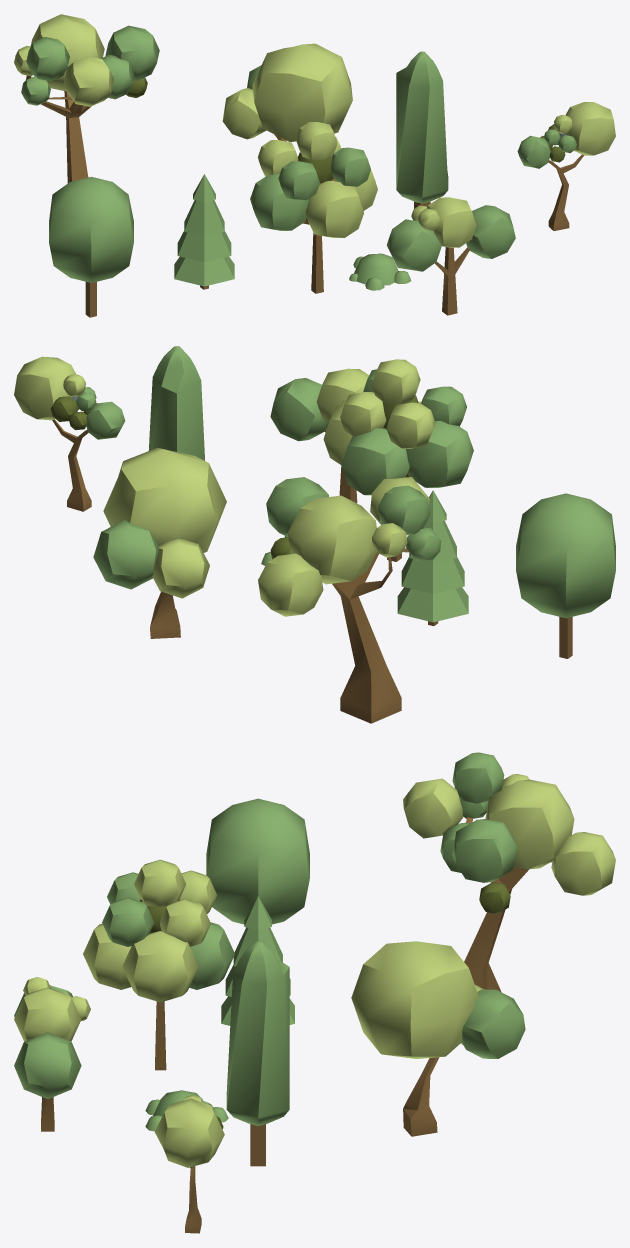
3 renders of one model, top to bottom at view 1: azimuth 30°, elevation 25°; view 2: azimuth 150°, elevation 25°; view 3: azimuth 270°, elevation 25°, orthographic. The views are drawn at different scales.
Parts seen in each view (by area): view 1: TreeG, TreeB, TreeC, Tree_E, TreeF, Tree_H, TreeA, TreeD, Bushes; view 2: TreeB, TreeC, TreeG, Tree_E, TreeA, TreeD, Tree_H, TreeF; view 3: TreeB, TreeC, TreeG, Tree_H, Tree_E, TreeF, TreeA, TreeD, Bushes.
Part boxes in pixels (x1,y1,x2,y2): TreeG: [250, 122, 377, 293]; TreeB: [14, 14, 159, 183]; TreeC: [222, 43, 352, 141]; Tree_E: [49, 177, 133, 317]; TreeF: [387, 197, 515, 315]; Tree_H: [396, 51, 448, 208]; TreeA: [517, 102, 615, 230]; TreeD: [174, 174, 234, 289]; Bushes: [349, 253, 410, 290]; TreeB: [258, 477, 441, 723]; TreeC: [93, 447, 226, 638]; TreeG: [323, 359, 473, 561]; Tree_E: [516, 493, 615, 658]; TreeA: [14, 356, 125, 511]; TreeD: [397, 490, 468, 625]; Tree_H: [148, 346, 204, 460]; TreeF: [270, 368, 368, 503]; TreeB: [403, 752, 615, 992]; TreeC: [351, 941, 525, 1136]; TreeG: [83, 859, 234, 1070]; Tree_H: [226, 941, 289, 1166]; Tree_E: [206, 798, 309, 924]; TreeF: [14, 977, 90, 1131]; TreeA: [155, 1095, 224, 1233]; TreeD: [221, 896, 294, 1025]; Bushes: [145, 1090, 228, 1131].
Size of the model in its own units: 2961 by 1047 by 2365.
9 materials, 9 textured.
